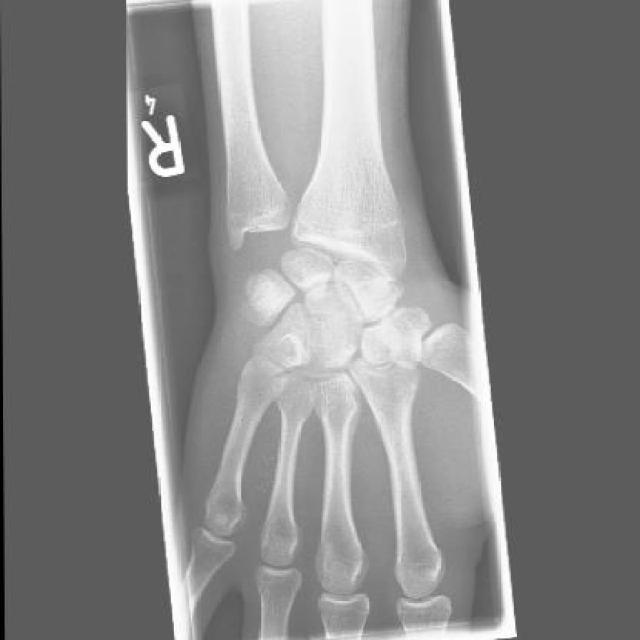Fracture: (306, 286, 367, 339)
